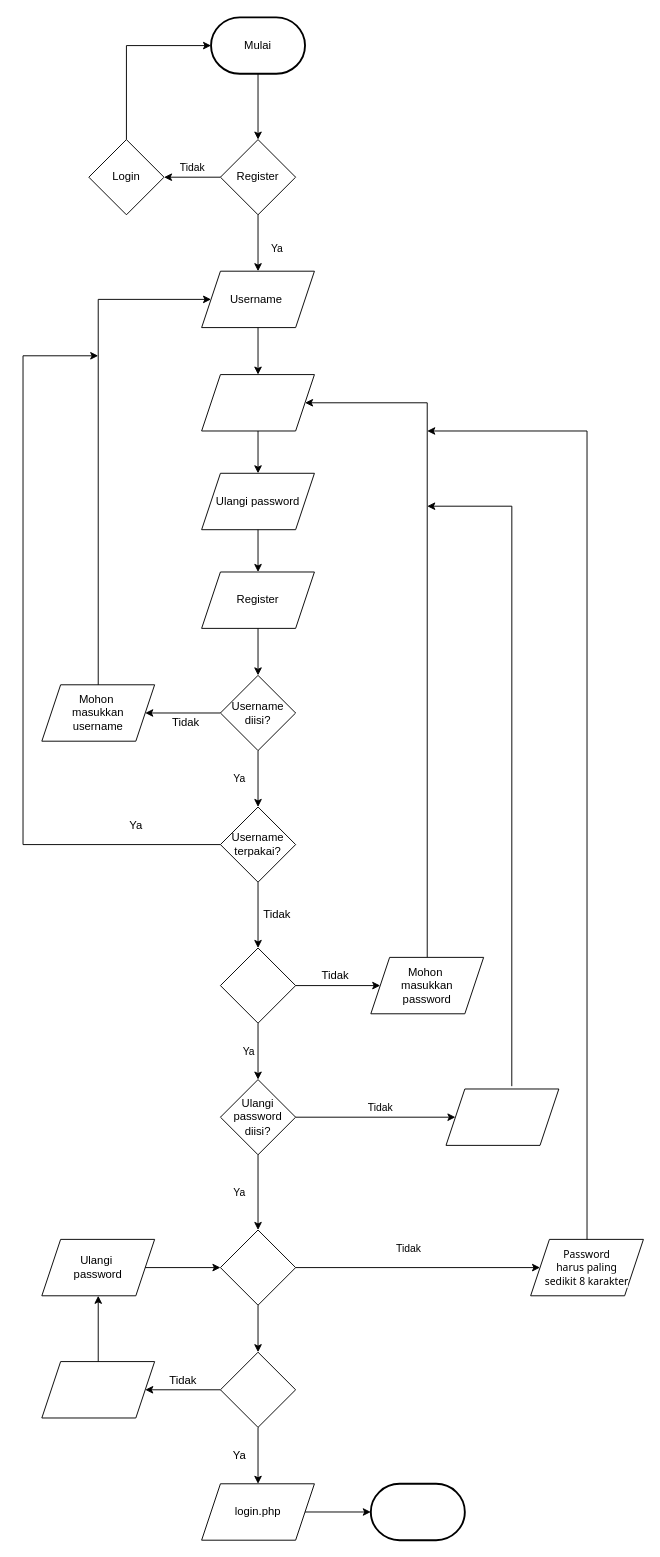
Image size: 660x1557. Some labels were removed from this diagram. The centre of each missing label's shape, as x and y in pixels:
Mohon konfirmasi password: point (502, 1116)
Panjang password 8 char?: point (257, 1267)
Password: point (257, 402)
Password diisi?: point (257, 985)
Password sama?: point (257, 1389)
Password tidak sama.: point (98, 1389)
Selesai: point (417, 1511)
